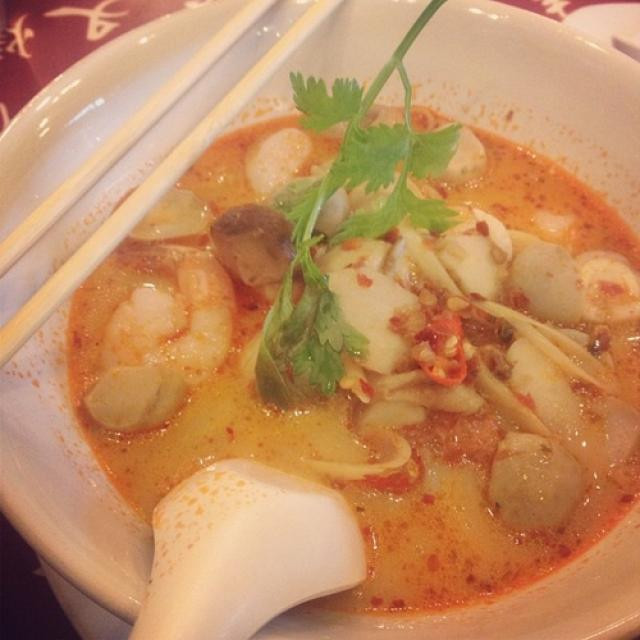汤锅炖物: (5, 8, 634, 631)
